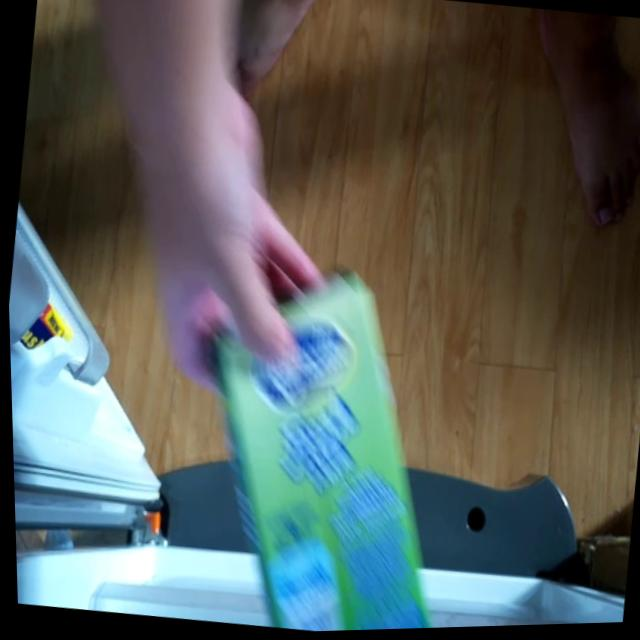milk: (167, 251, 475, 636)
